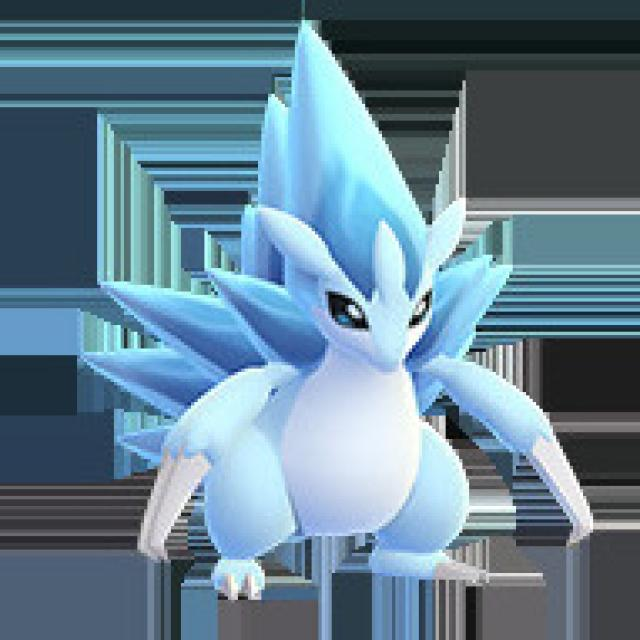Alolan: (168, 155, 540, 570)
